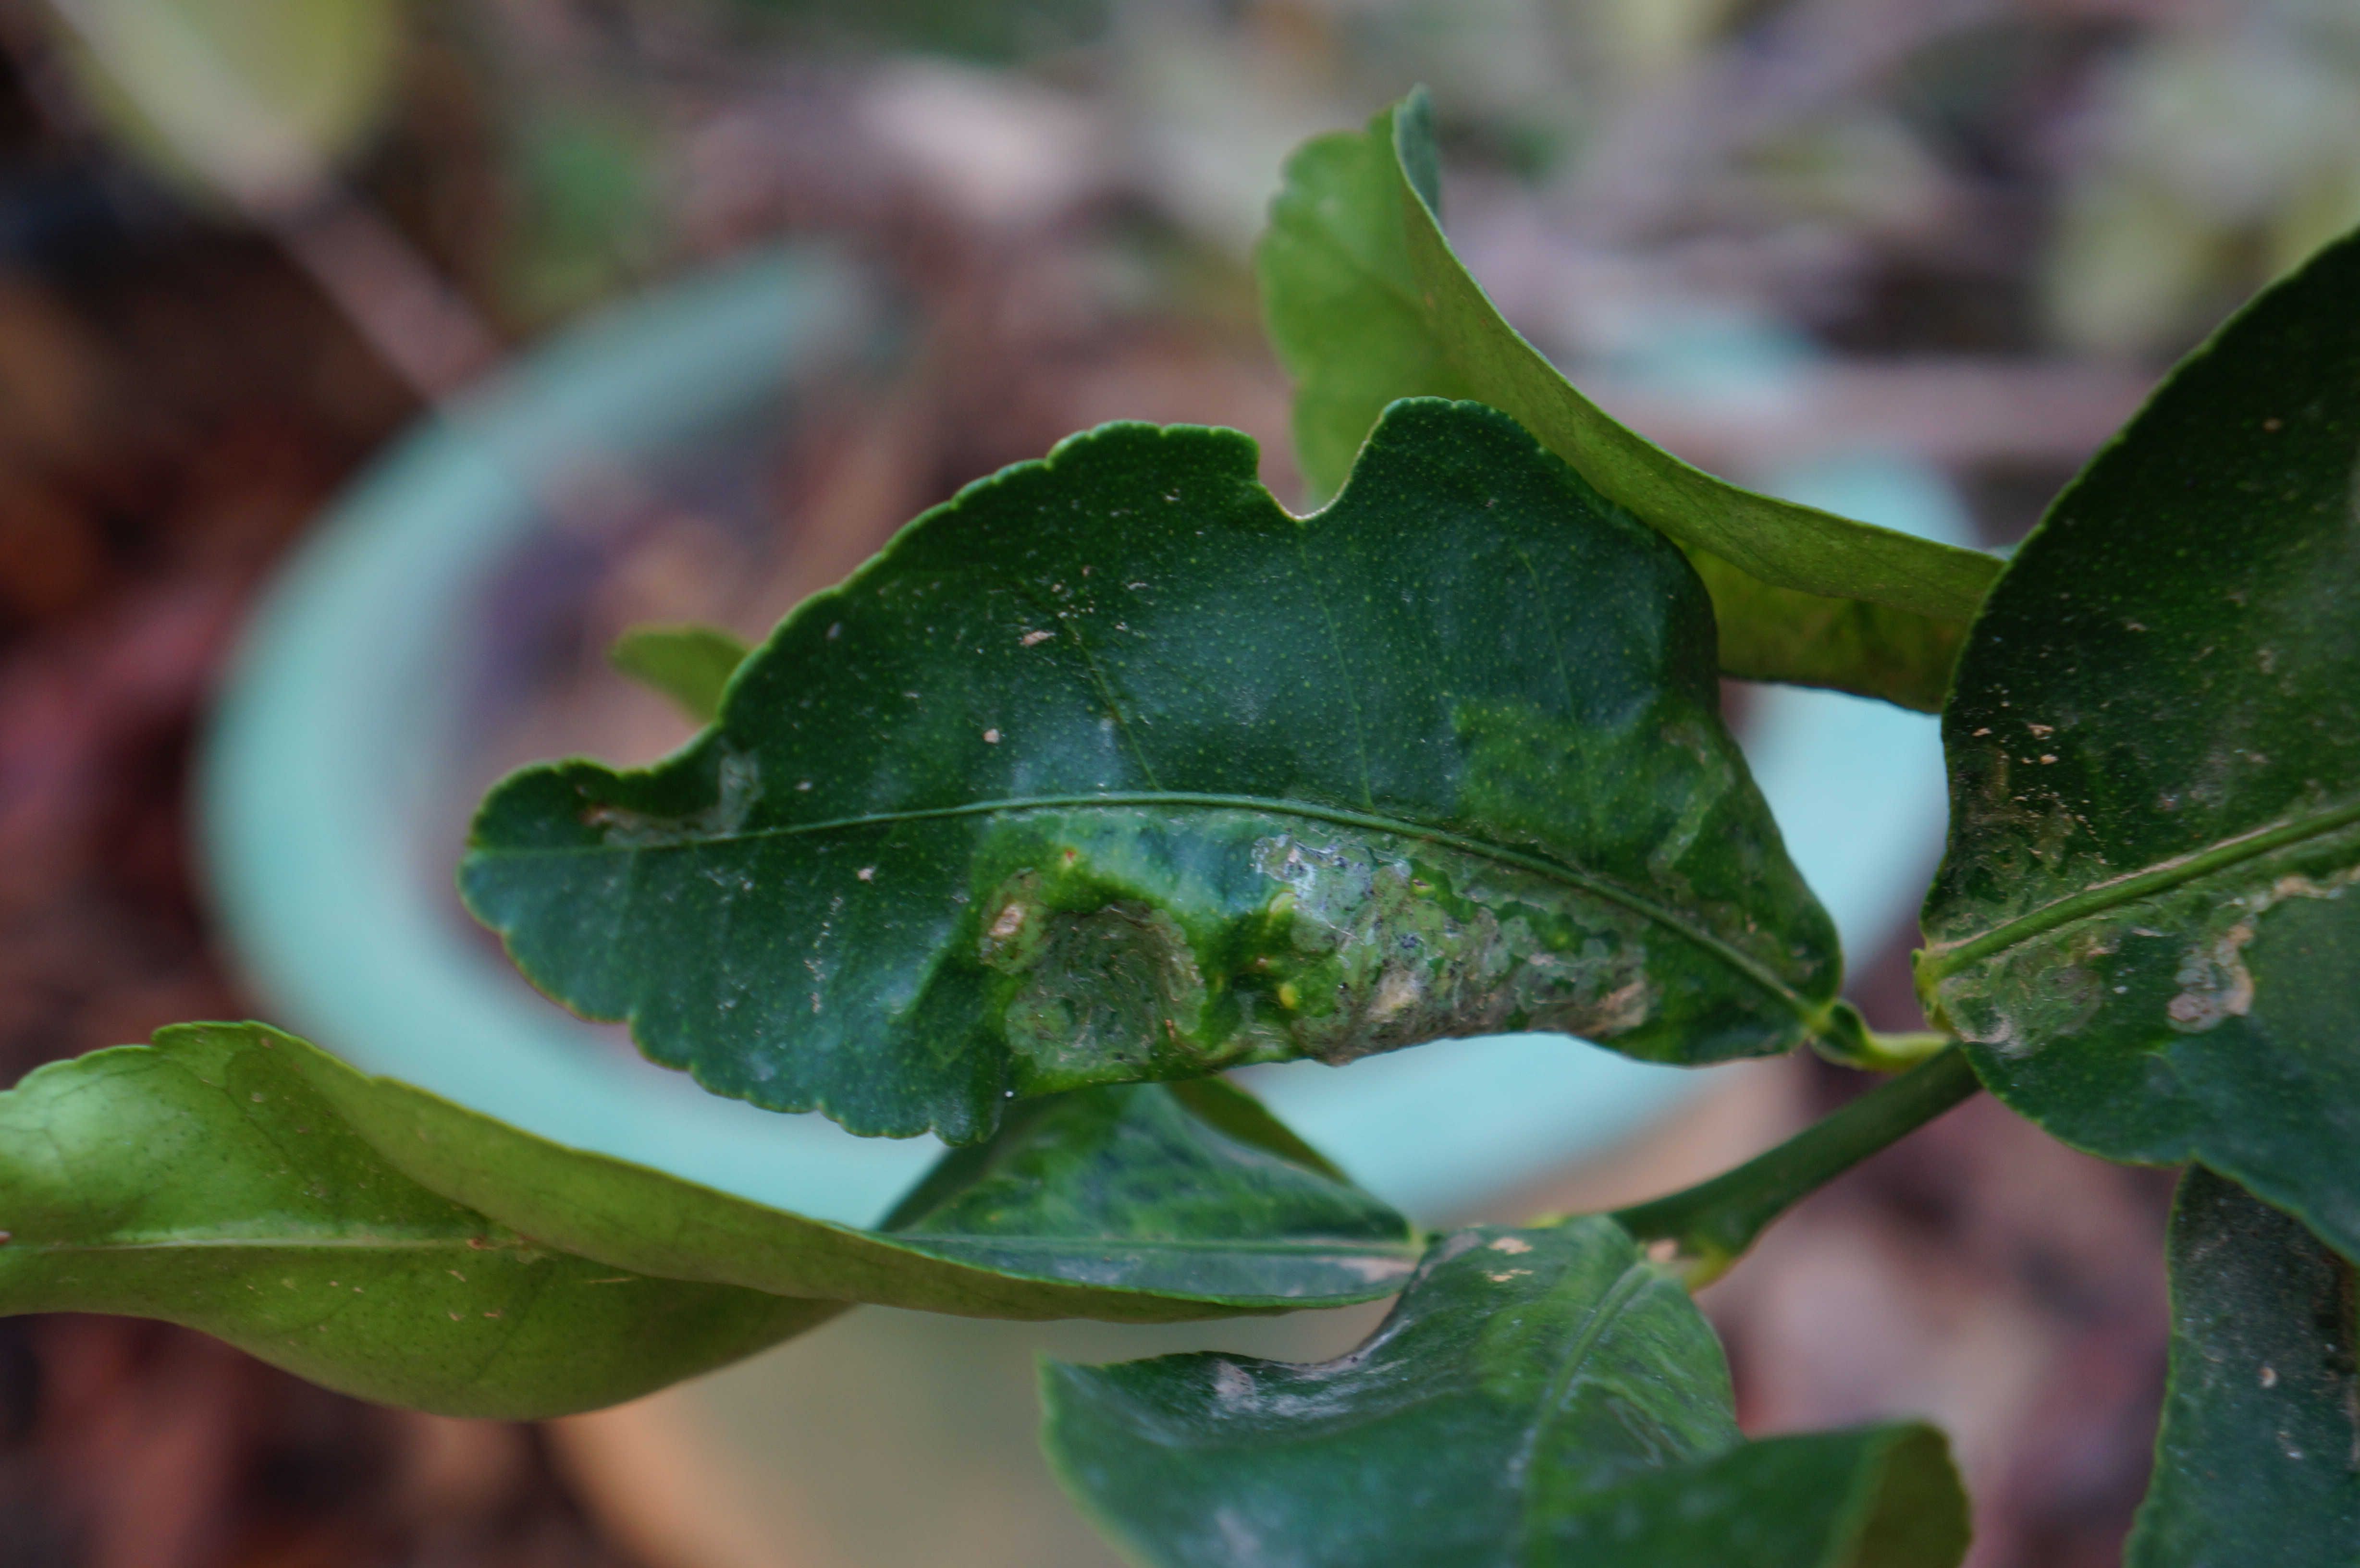damage: (924, 768, 1730, 1080), (1907, 768, 2360, 1071)
